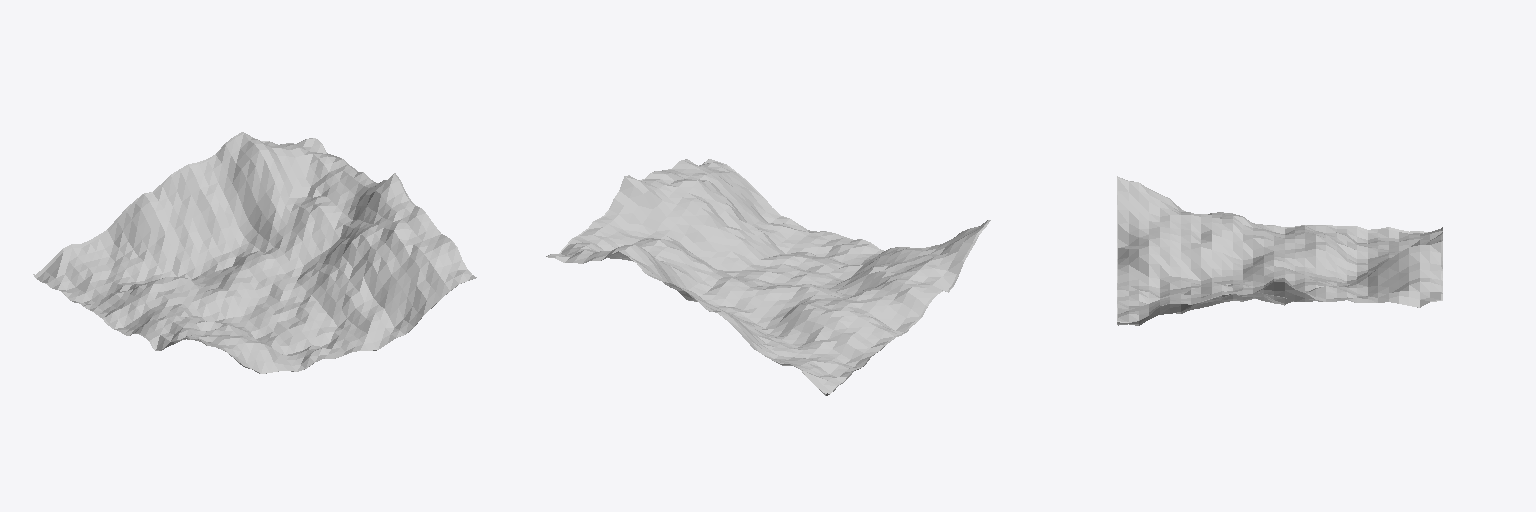
Rendered from heightmap.043.obj.
3 views of the same model, side by side, from view 1: azimuth 30°, elevation 25°; view 2: azimuth 150°, elevation 25°; view 3: azimuth 270°, elevation 25° (orthographic).
Parts seen in each view (by area): view 1: heightmap.043_Plane.043; view 2: heightmap.043_Plane.043; view 3: heightmap.043_Plane.043.
Part boxes in pixels (left/top/right/bottom): heightmap.043_Plane.043: left=33, top=132, right=476, bottom=373; heightmap.043_Plane.043: left=546, top=159, right=990, bottom=395; heightmap.043_Plane.043: left=1117, top=176, right=1442, bottom=325.
Bounding box in the file's own units: 32 × 10.38 × 32.